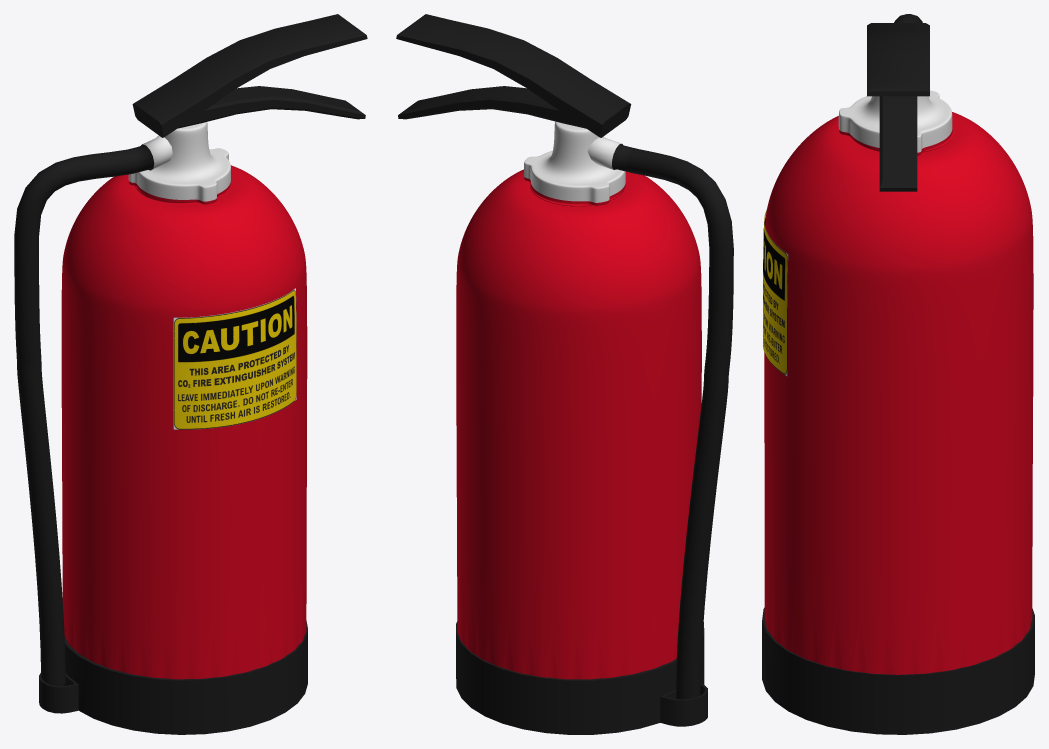
Rendered from Fire.fbx.
3 renders of one model, left to right at view 1: azimuth 30°, elevation 25°; view 2: azimuth 150°, elevation 25°; view 3: azimuth 270°, elevation 25°, orthographic. The views are drawn at different scales.
Parts seen in each view (by area): view 1: Sphere, BézierCurve, Cylinder, fireexting, Cube.002, Cube; view 2: Sphere, BézierCurve, Cylinder, Cube.002, Cube; view 3: Sphere, Cylinder, Cube.002, Cube, fireexting.
Boxes of the visible parts, box(x1,y1,x2,y2) form: Sphere: box(61, 122, 307, 679); BézierCurve: box(14, 135, 172, 686); Cylinder: box(39, 620, 307, 734); fireexting: box(173, 288, 296, 429); Cube.002: box(132, 14, 367, 137); Cube: box(178, 86, 365, 128); Sphere: box(456, 121, 701, 679); BézierCurve: box(587, 137, 733, 699); Cylinder: box(456, 621, 707, 734); Cube.002: box(396, 14, 631, 137); Cube: box(398, 86, 585, 128); Sphere: box(764, 90, 1033, 674); Cylinder: box(762, 607, 1034, 734); Cube.002: box(867, 23, 929, 96); Cube: box(879, 96, 917, 191); fireexting: box(763, 209, 788, 376).
Size of the model in its own units: 309 by 549 by 200.
Materials: 5 (1 with a texture image).
